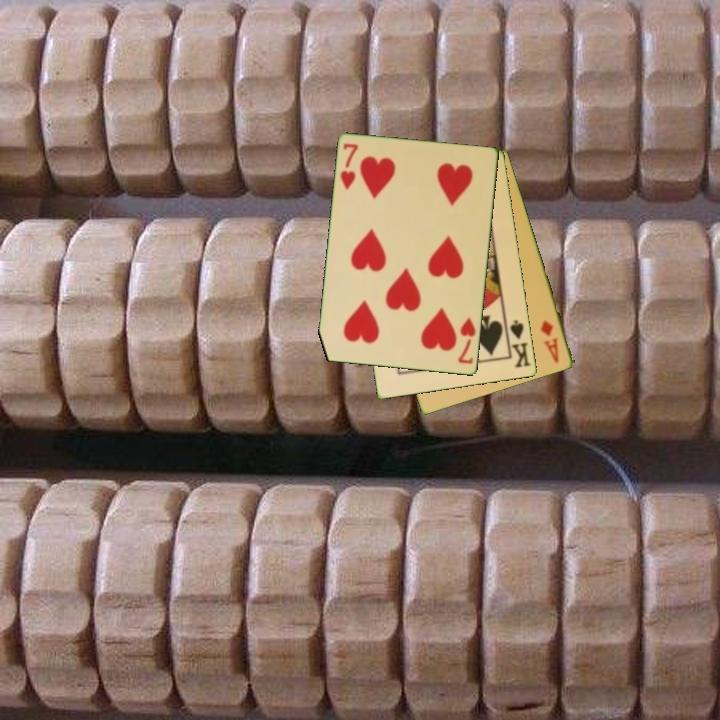7h: (455, 314, 479, 367), (337, 140, 361, 193)
Ad: (537, 317, 562, 367)
Ks: (503, 316, 534, 371)
